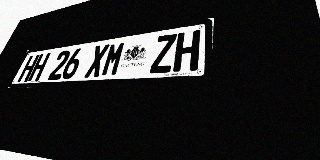2: (47, 50, 72, 80)
6: (60, 47, 85, 79)
H: (172, 30, 201, 72), (27, 53, 51, 81), (17, 54, 40, 82)
M: (100, 41, 127, 77)
X: (84, 44, 110, 78)
Z: (149, 33, 177, 73)
